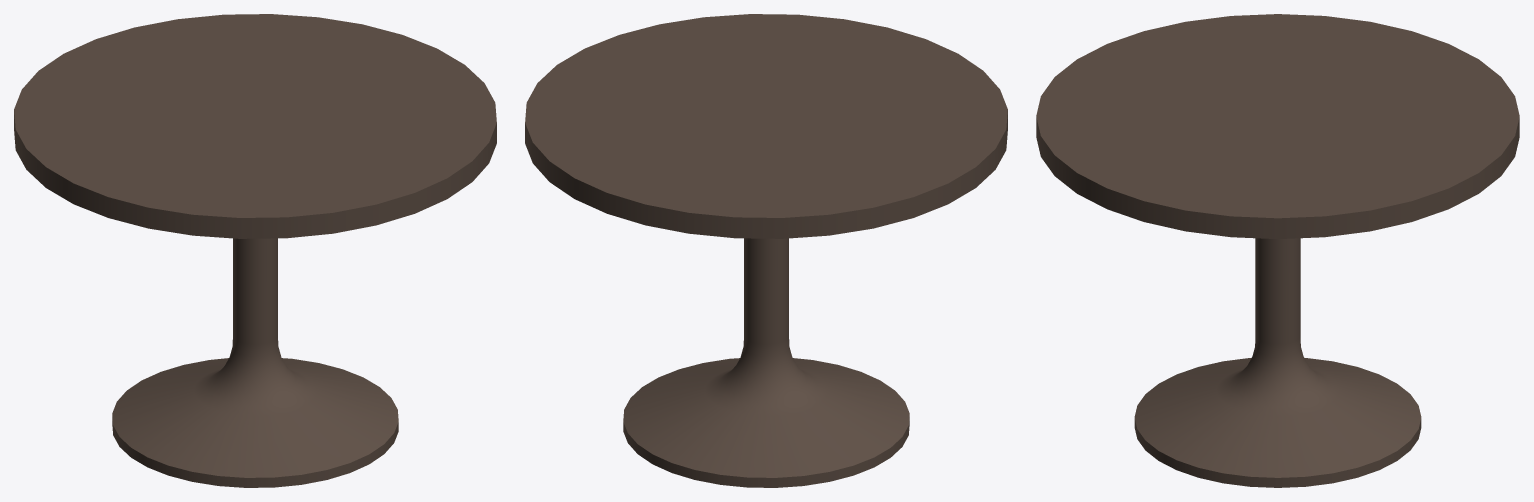
File: TableRonde_1.fbx
The picture shows the model from 3 angles, left to right: view 1: azimuth 30°, elevation 25°; view 2: azimuth 150°, elevation 25°; view 3: azimuth 270°, elevation 25°; orthographic projection.
Visible parts, largest first — view 1: pCylinder1764; view 2: pCylinder1764; view 3: pCylinder1764.
Part boxes in pixels (x1,y1,x2,y2): pCylinder1764: (14, 14, 496, 487); pCylinder1764: (525, 14, 1007, 487); pCylinder1764: (1036, 14, 1519, 487).
Bounding box in the file's own units: 53.17 × 37.76 × 53.17.
